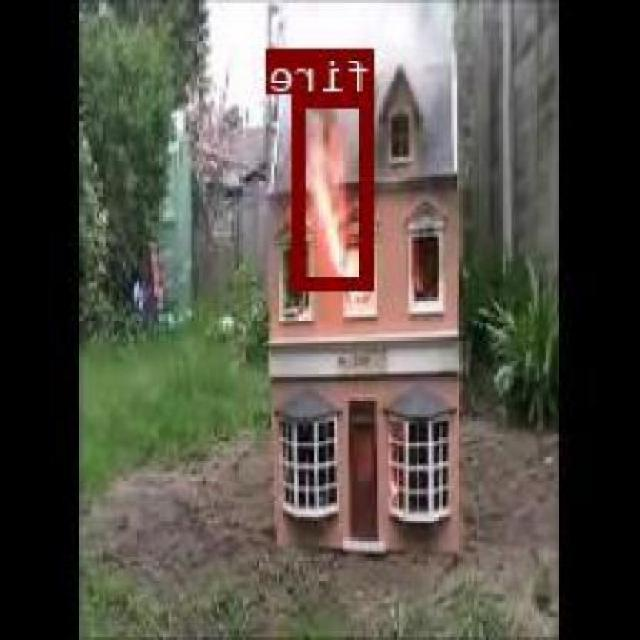Smoke: (294, 92, 376, 286)
